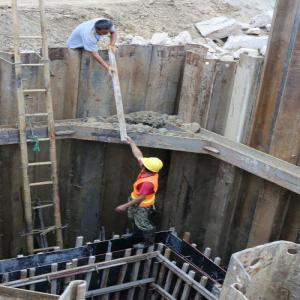none: (94, 19, 117, 39)
yellow: (139, 156, 164, 177)
